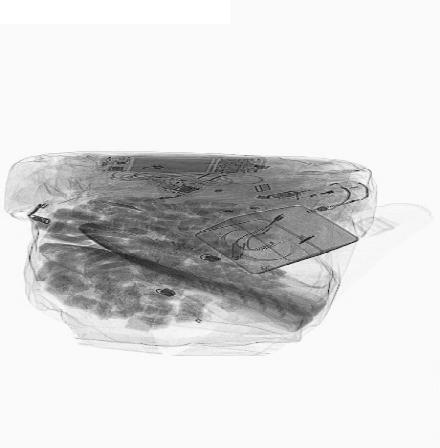Lighter: (265, 178, 370, 204)
